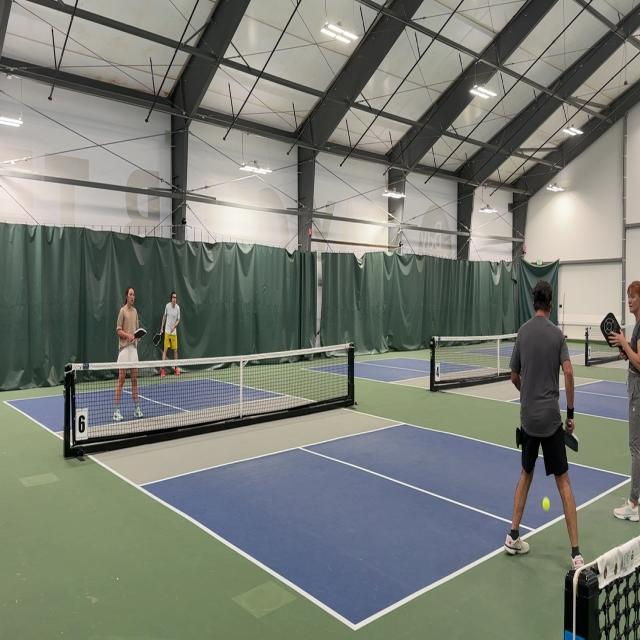ball: (542, 497, 550, 512)
